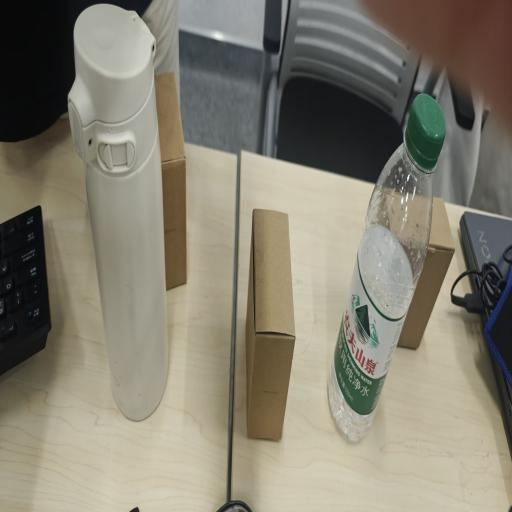bottle: (68, 4, 173, 420), (328, 94, 446, 442)
box: (239, 207, 296, 440), (398, 198, 454, 349), (154, 72, 187, 290)
